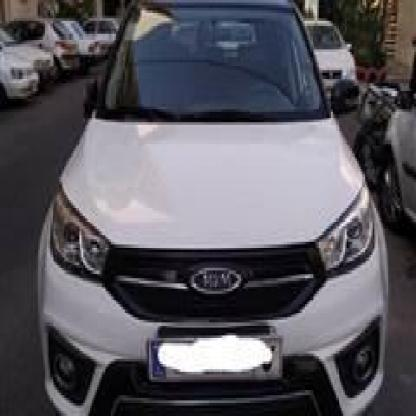Car: (37, 0, 396, 416), (371, 65, 416, 221), (300, 16, 369, 94), (16, 15, 78, 86), (0, 23, 53, 78), (61, 13, 96, 65), (0, 46, 36, 93)
